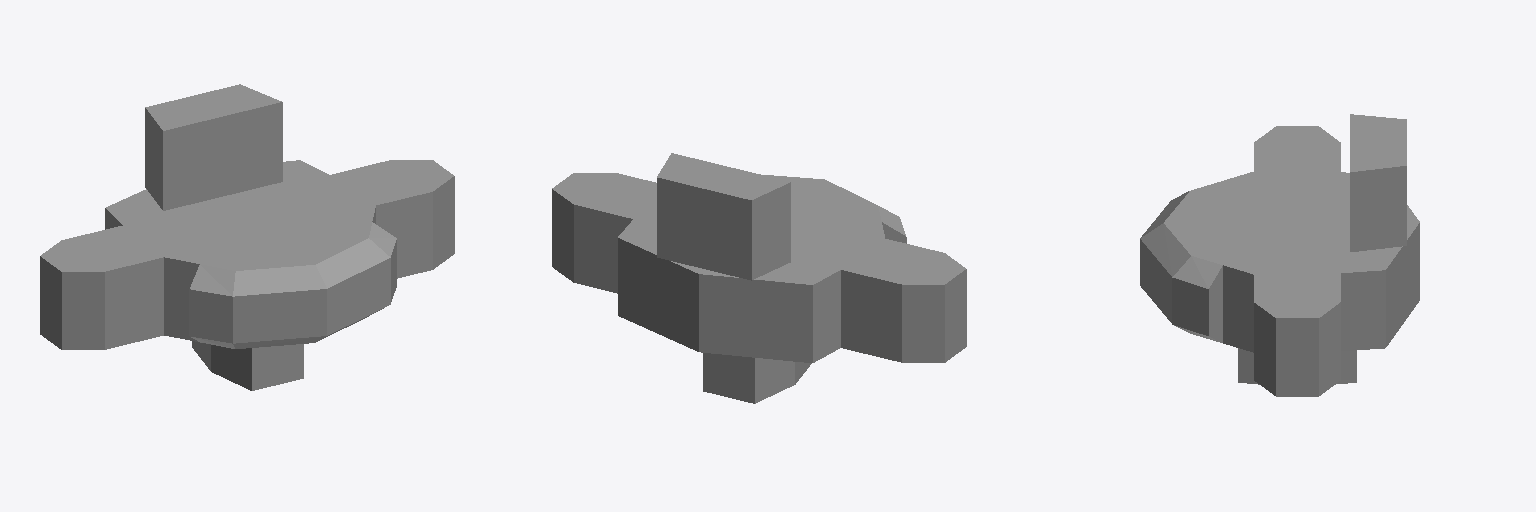
The model's file is torso.obj.
3 renders of one model, left to right at view 1: azimuth 30°, elevation 25°; view 2: azimuth 150°, elevation 25°; view 3: azimuth 270°, elevation 25°, orthographic.
Parts seen in each view (by area): view 1: default; view 2: default; view 3: default.
Boxes of the visible parts, box(x1,y1,x2,y2) form: default: box(40, 84, 454, 390); default: box(552, 153, 966, 403); default: box(1140, 114, 1419, 396).
Bounding box in the file's own units: 0.3072 × 0.1696 × 0.1895.